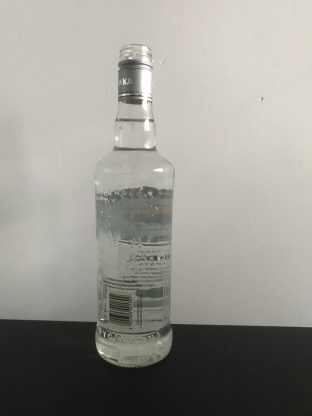nakretka: (116, 40, 154, 106)
